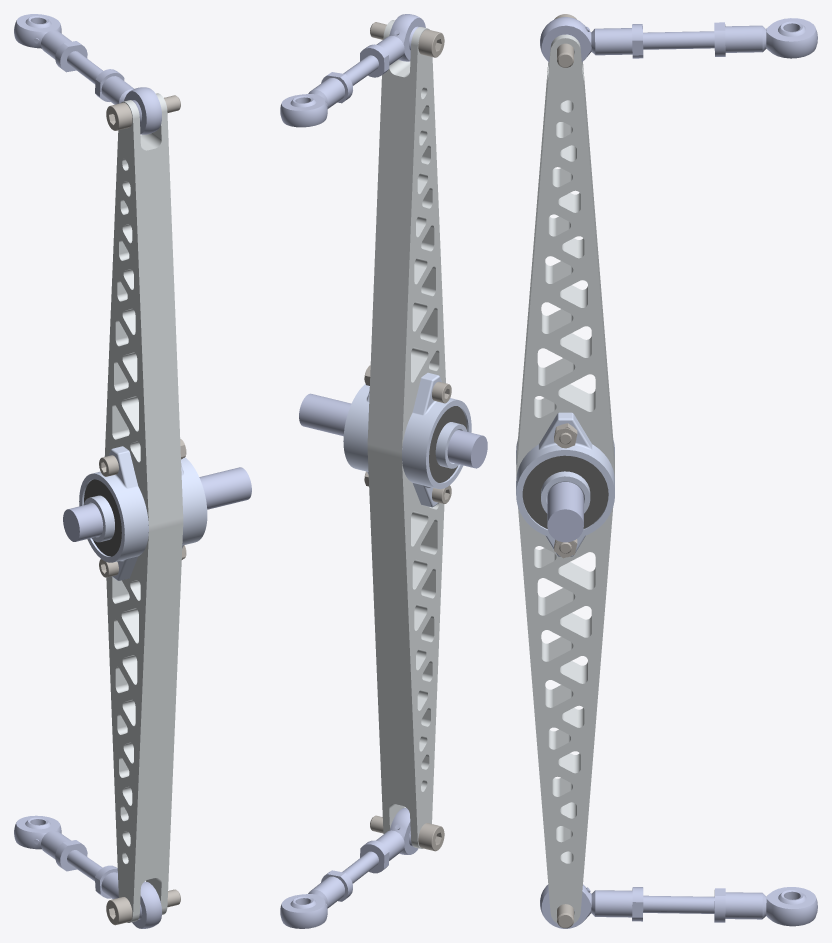
File: Rocker.obj
3 views of the same model, side by side, from view 1: azimuth 30°, elevation 25°; view 2: azimuth 150°, elevation 25°; view 3: azimuth 270°, elevation 25° (orthographic). The views are drawn at different scales.
Parts seen in each view (by area): view 1: Rocker; view 2: Rocker; view 3: Rocker.
Boxes of the visible parts, x1,y1,x2,y2 form: Rocker: (14, 14, 251, 928); Rocker: (280, 14, 487, 928); Rocker: (516, 14, 817, 928).
Size of the model in its own units: 0.1 by 0.465 by 0.1402.
